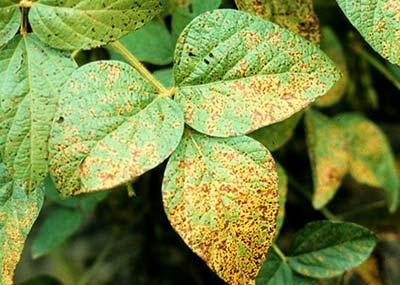black-spot: (183, 146, 259, 248), (204, 33, 286, 113), (64, 132, 118, 181)
